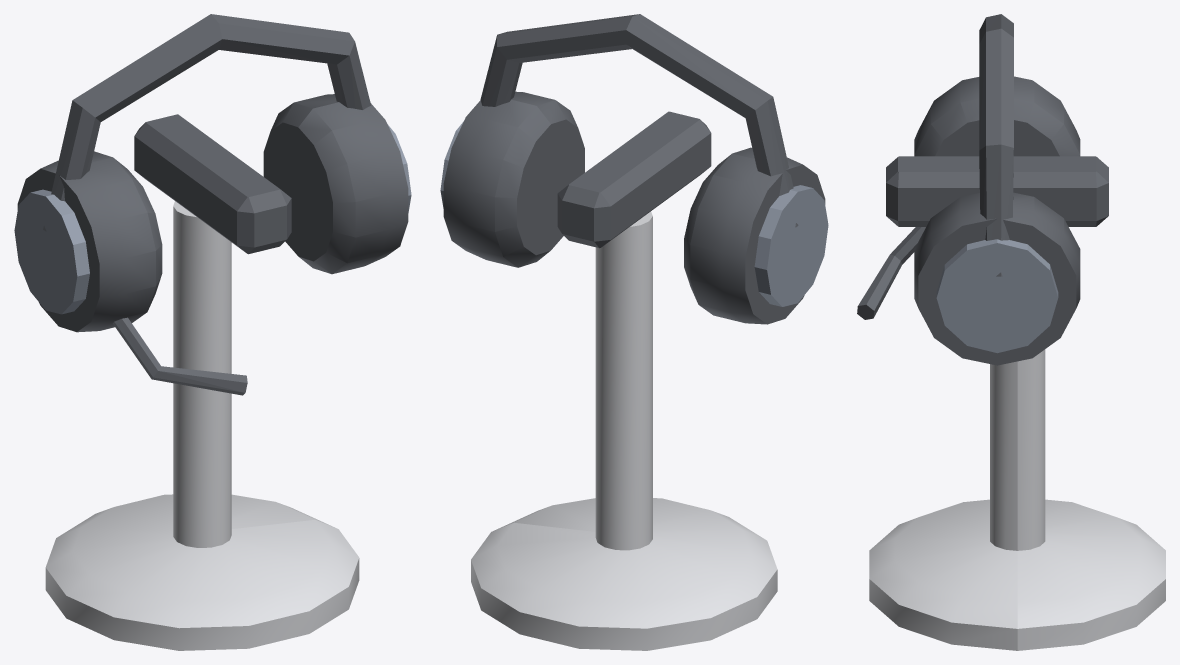
3 renders of one model, left to right at view 1: azimuth 30°, elevation 25°; view 2: azimuth 150°, elevation 25°; view 3: azimuth 270°, elevation 25°, orthographic. The views are drawn at different scales.
Parts seen in each view (by area): view 1: headset-on-stand; view 2: headset-on-stand; view 3: headset-on-stand.
Boxes of the visible parts, box(x1,y1,x2,y2) form: headset-on-stand: box(14, 14, 411, 650); headset-on-stand: box(440, 14, 828, 650); headset-on-stand: box(857, 14, 1165, 650).
Size of the model in its own units: 0.1851 by 0.3038 by 0.1524.
